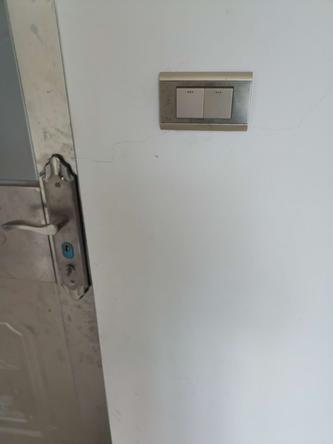switch: (203, 84, 236, 121), (174, 83, 205, 121)
